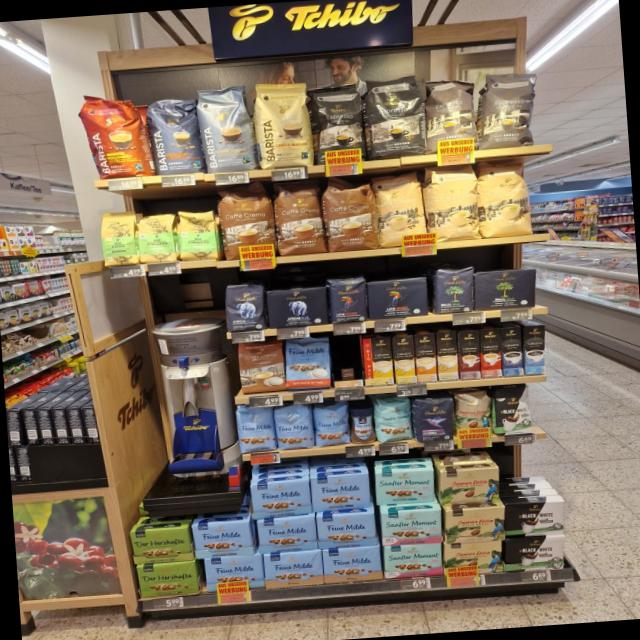AB Bohne: (223, 280, 267, 332)
AB Gemahlen: (264, 285, 330, 329)
Athiopien Bohne: (99, 208, 139, 268)
Athiopien Gemahlen: (176, 206, 218, 260), (136, 212, 178, 264)
BM Bohne: (433, 264, 476, 314)
BM Gemahlen: (474, 266, 540, 312)
BW Bohne: (492, 384, 534, 436)
BW Gemahlen: (504, 498, 566, 540), (504, 534, 566, 572)
Barista CB: (253, 80, 315, 169)
Barista CC: (195, 83, 258, 173)
Barista Espresso: (147, 94, 204, 176)
Barista Kolumbien: (77, 90, 153, 182)
C Fino Bohne: (412, 395, 456, 444)
CC Mild: (422, 163, 480, 243), (476, 160, 535, 238), (371, 170, 428, 248)
CC Vollmundig: (236, 339, 286, 394)
CC Vollmundig 36 Pads: (214, 182, 276, 260), (319, 174, 378, 252), (270, 178, 326, 255)
Colombia BB Bohne: (454, 390, 494, 440)
Colombia BB Gemahlen: (439, 464, 502, 506), (445, 505, 507, 543), (443, 539, 504, 576)
Empty Shelf: (328, 338, 362, 382)
Espresso M Art: (476, 66, 542, 148), (422, 76, 479, 154)
Espresso S Art: (362, 73, 428, 158), (307, 82, 367, 164)
FM 36 Pads: (284, 336, 332, 390)
FM Bohne: (234, 404, 276, 454), (273, 404, 315, 451), (313, 402, 351, 447)
FM Gemahlen: (190, 518, 254, 560), (250, 478, 312, 519), (309, 472, 372, 512), (316, 510, 378, 549), (203, 554, 265, 592), (262, 550, 324, 588), (322, 545, 382, 584), (257, 515, 317, 553)
FM Instant: (349, 406, 376, 446)
Herzhatfe Mundig: (128, 526, 194, 564), (135, 562, 199, 598)
LG Bohne: (326, 276, 368, 324)
LG Gemahlen: (366, 276, 430, 320)
SM Bohne: (374, 396, 414, 444)
SM Gemahlen: (380, 506, 444, 546), (374, 467, 436, 506), (382, 541, 443, 579)
Simo CCMild: (362, 336, 394, 385)
Simo CCMild bigpack: (392, 334, 416, 384)
Simo CCVollmundig bigpack: (414, 332, 437, 382)
Simo Decaff: (435, 330, 459, 380)
Simo Es Brazil: (479, 327, 502, 377)
Simo Es Caramel: (456, 329, 481, 378)
Simo Es Kraft: (499, 326, 524, 376)
Simo Es Vanilla: (524, 324, 548, 374)
